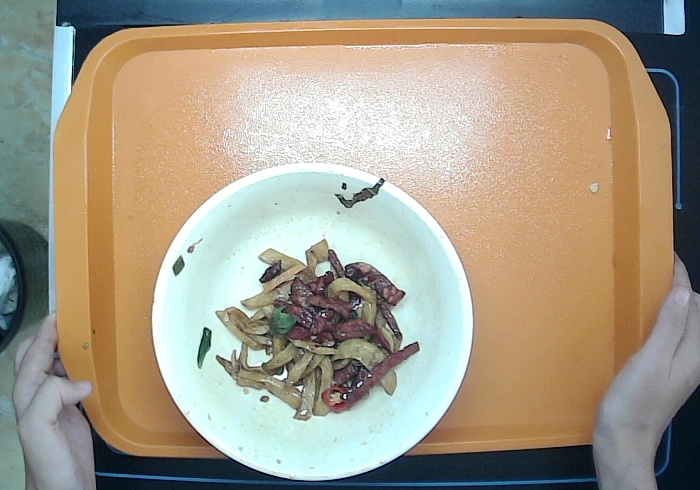ZNLD-Da_Tang_Wan: (152, 159, 473, 483)
